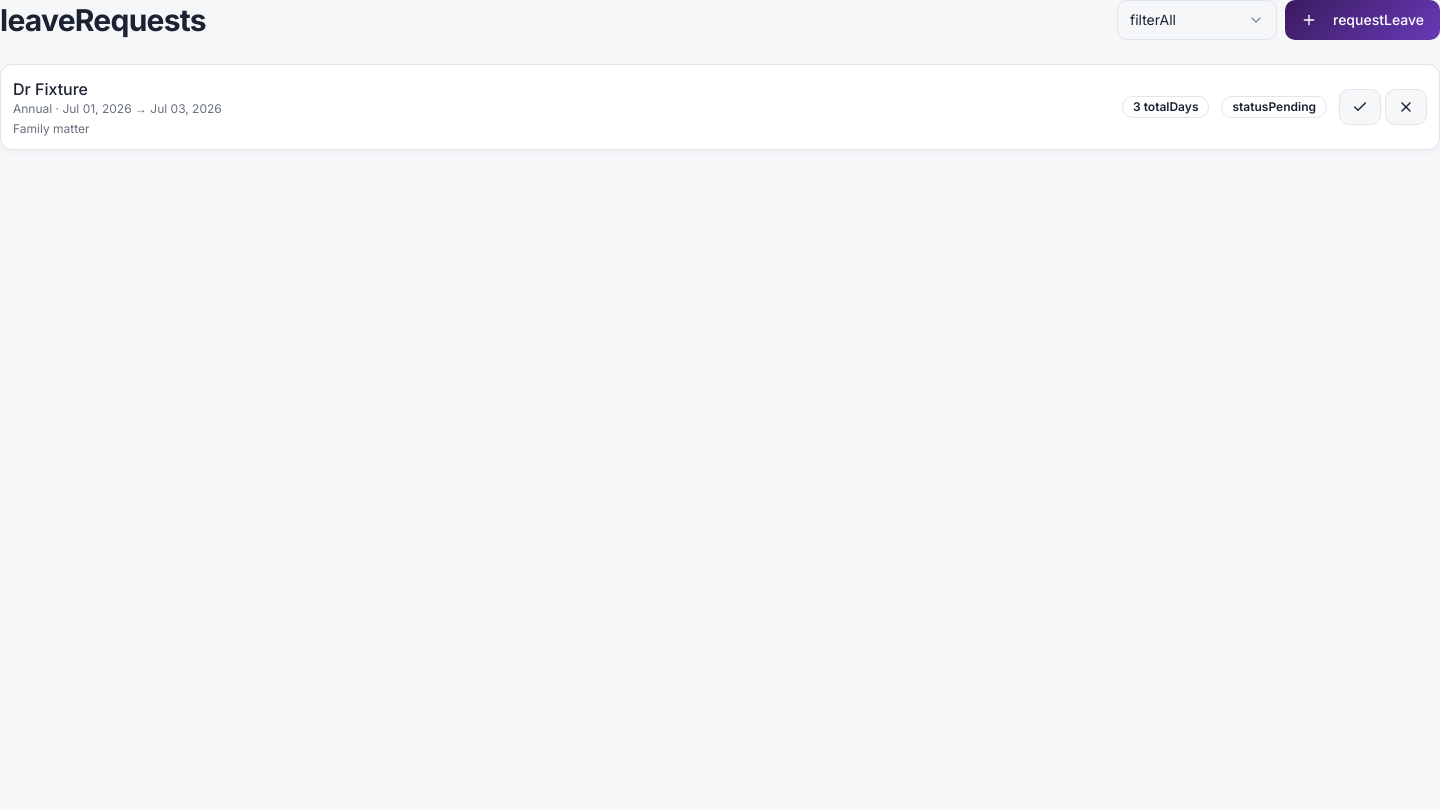
leave rejection dialog › asks inside the app, not in a browser box
What coordinates should you click on to do the following:
click the button named "Reject request"
I would click on:
 (1406, 107)
Its box is left=1385, top=89, right=1427, bottom=125.
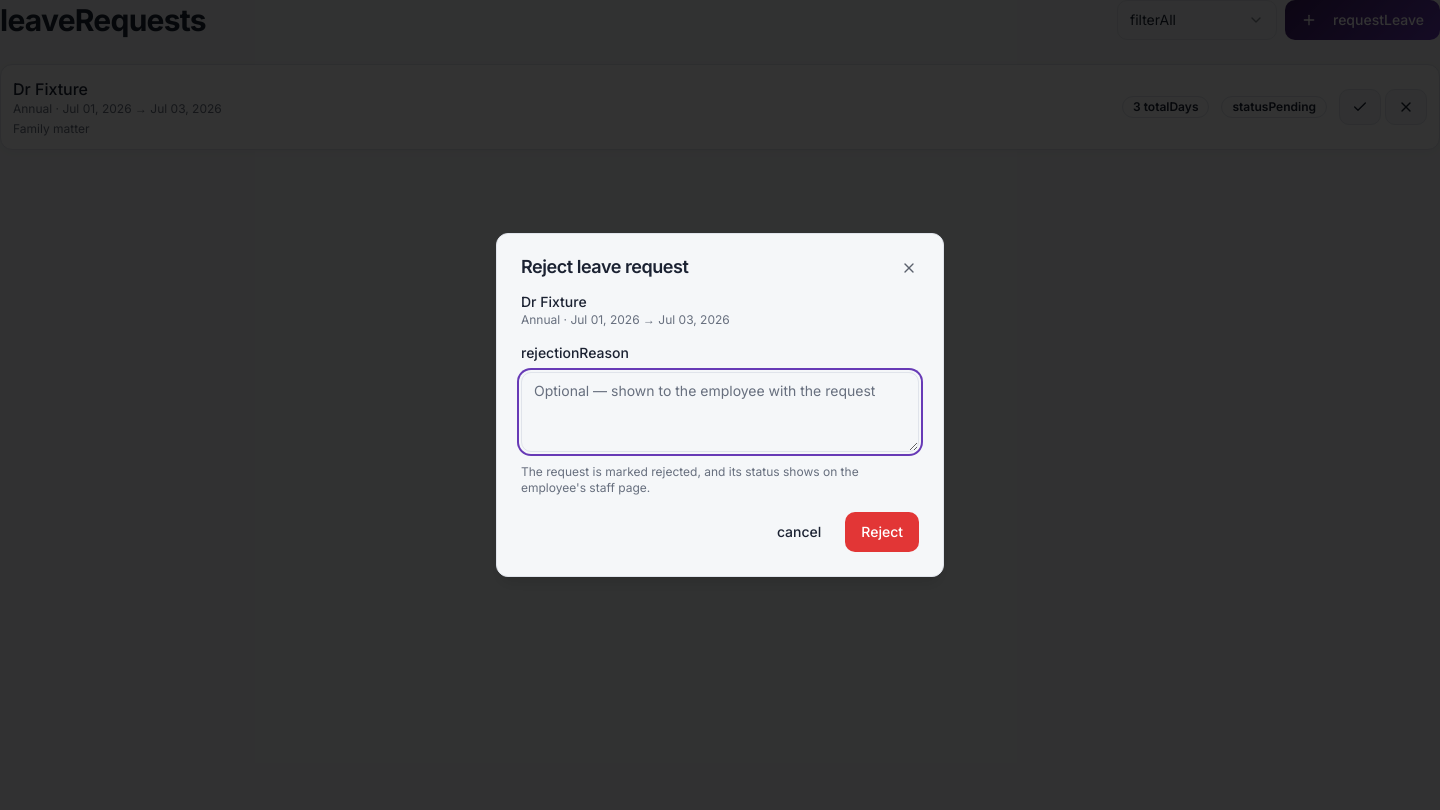
Now the dialog is shown, box left=496, top=233, right=944, bottom=577
Now the heading "Reject leave request" is shown, box left=521, top=256, right=688, bottom=277
